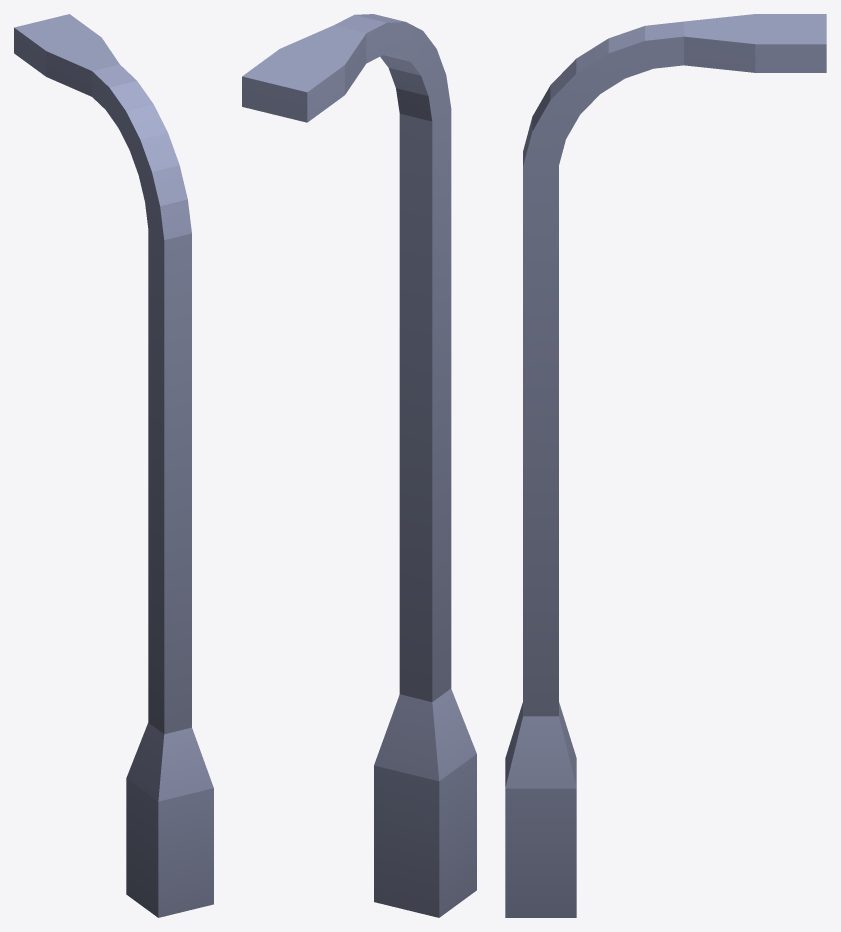
Rendered from light-curved-high.glb.
3 renders of one model, left to right at view 1: azimuth 30°, elevation 25°; view 2: azimuth 150°, elevation 25°; view 3: azimuth 270°, elevation 25°, orthographic. The views are drawn at different scales.
Size of the model in its own units: 0.05 by 0.675 by 0.225.
